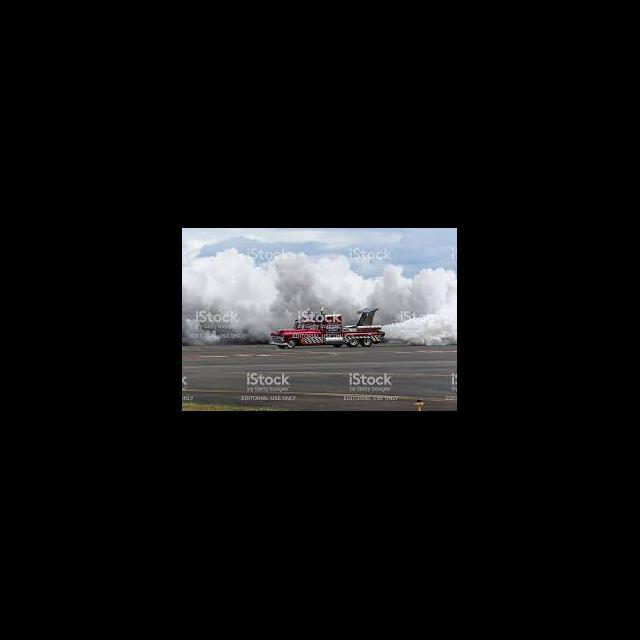Smoke: (182, 246, 456, 346)
